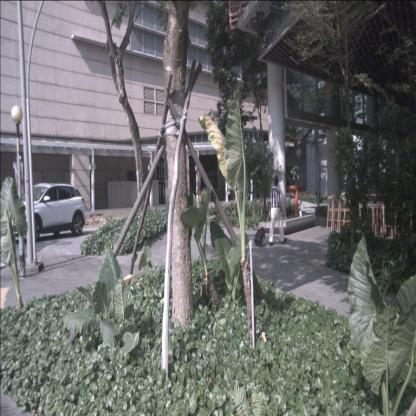human-pedestrian-adult: (268, 176, 287, 246)
vehicle-car: (6, 183, 86, 242)
